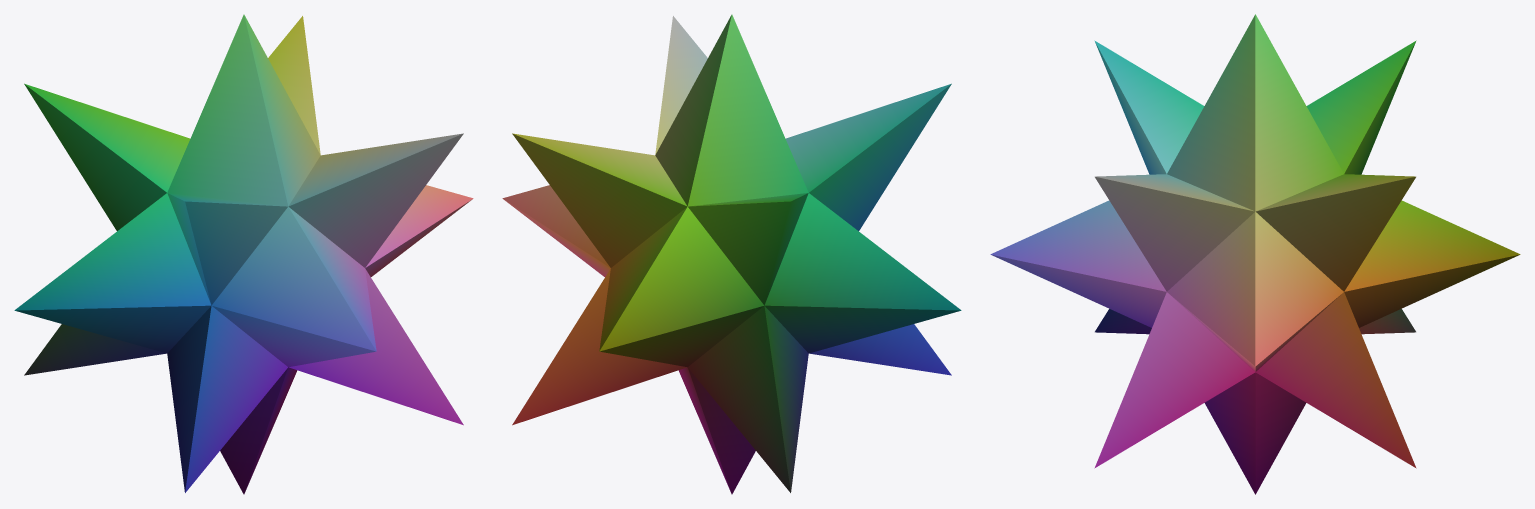
The model's file is zeometry-stars-spikes-spiky-star_v5.glb.
3 views of the same model, side by side, from view 1: azimuth 30°, elevation 25°; view 2: azimuth 150°, elevation 25°; view 3: azimuth 270°, elevation 25° (orthographic).
Parts seen in each view (by area): view 1: Spiky Star_v5; view 2: Spiky Star_v5; view 3: Spiky Star_v5.
Boxes of the visible parts, x1=… form: Spiky Star_v5: x1=14, y1=14, x2=473, y2=494; Spiky Star_v5: x1=502, y1=14, x2=961, y2=494; Spiky Star_v5: x1=990, y1=14, x2=1520, y2=494.
Size of the model in its own units: 0.5 by 0.5 by 0.5.
